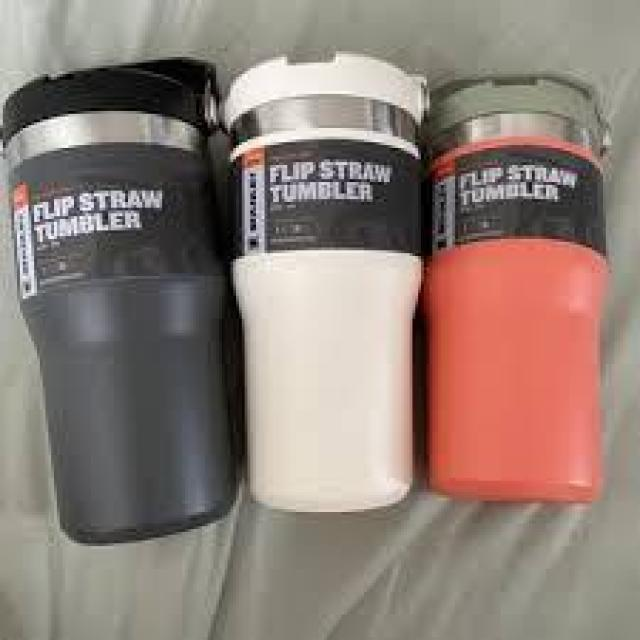bottle: (3, 57, 247, 560), (220, 36, 431, 510), (417, 68, 624, 518)
